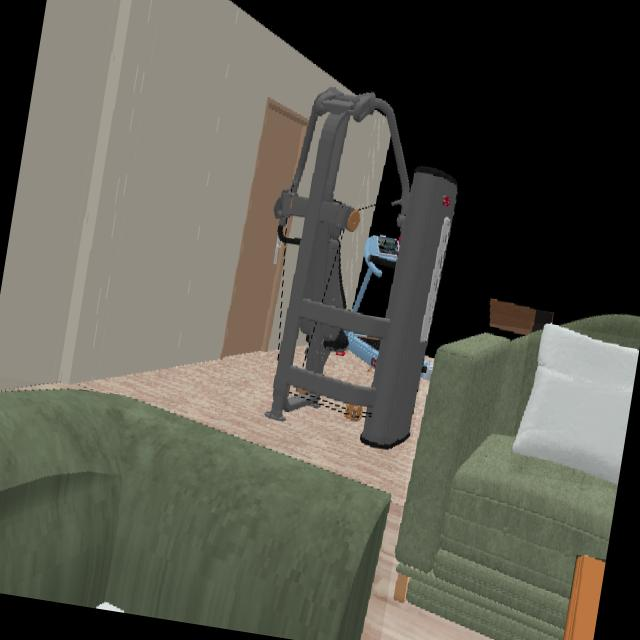chair: (563, 557, 606, 640)
pillow: (511, 326, 639, 489)
sofa: (0, 390, 390, 640), (392, 331, 617, 640)
